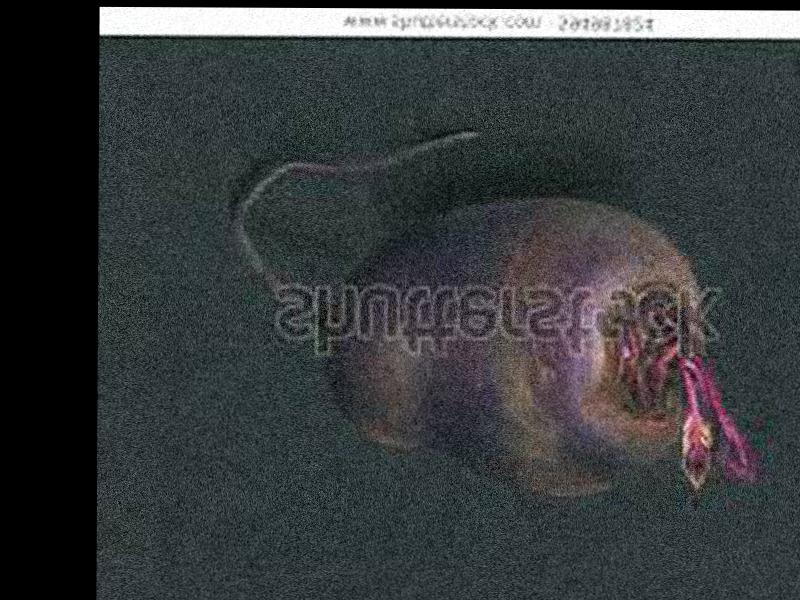Beet: (233, 130, 769, 499)
